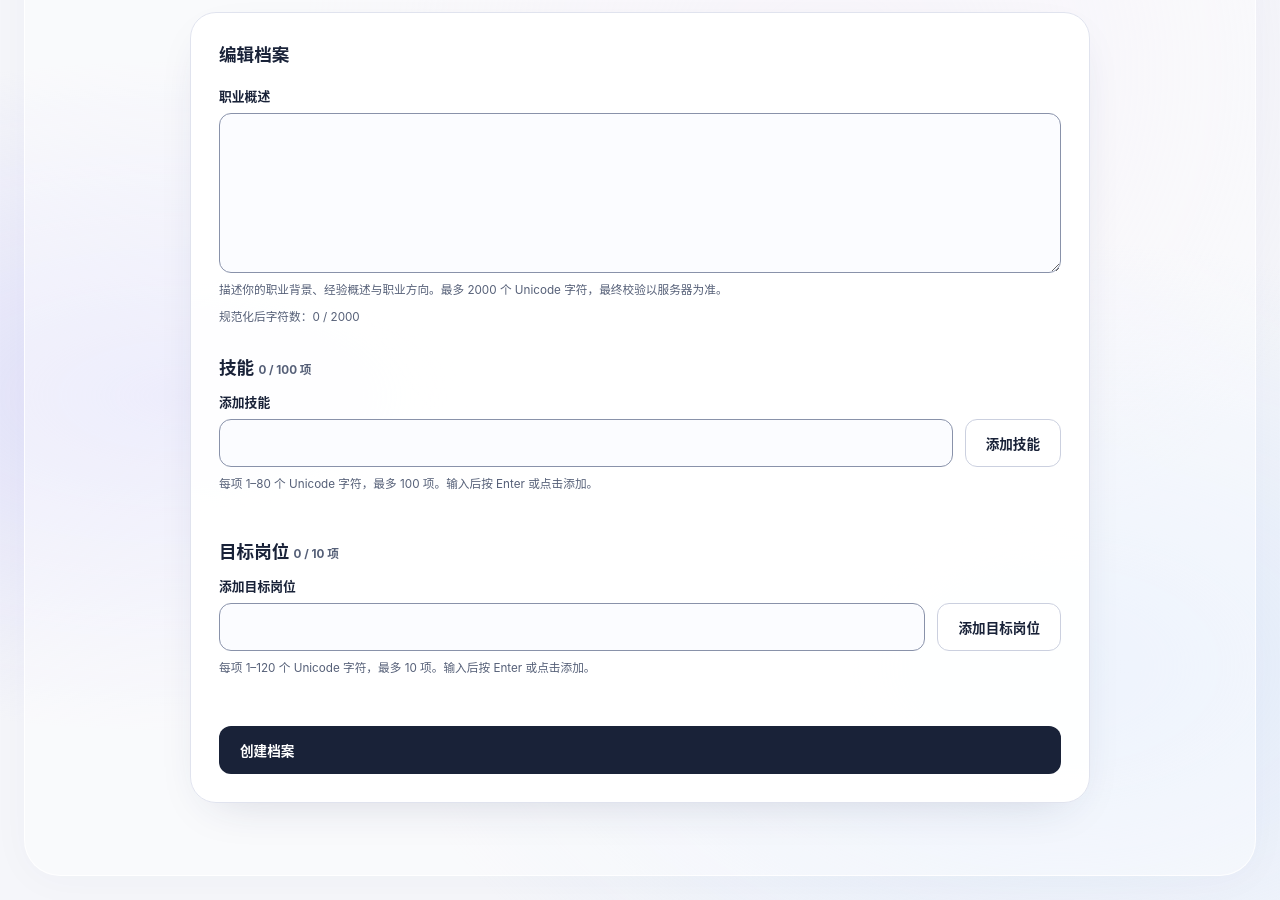
Test: 404 onboarding allows explicit empty creation; server response establishes canonical state
(page scrolled)
Step 1. Click the button "创建档案" → (267, 751), box [219,726,1061,774]
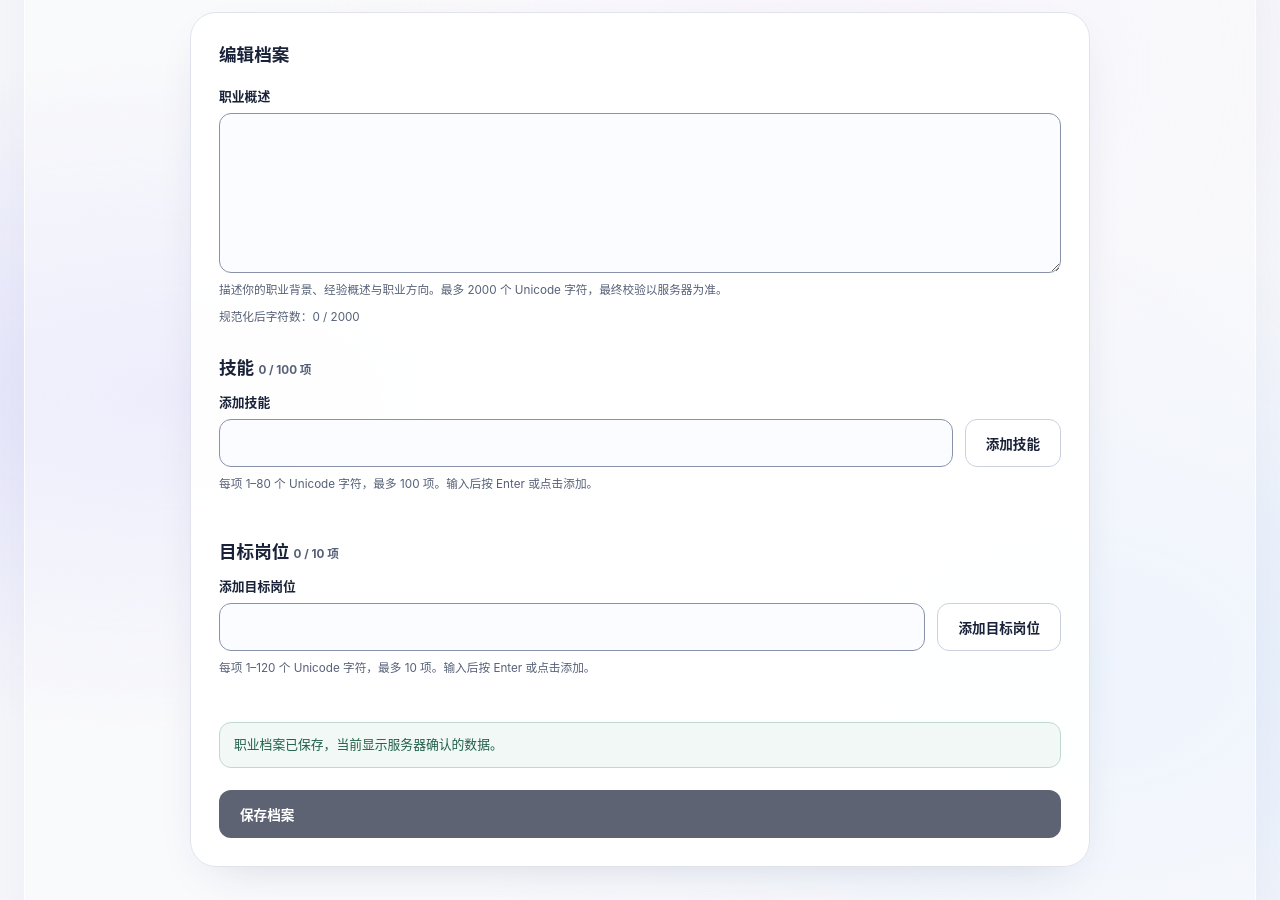
Check: the text "职业档案已保存，当前显示服务器确认的数据。" is shown, box [219,722,1061,768]
Check: the button "保存档案" is disabled, box [219,790,1061,838]
